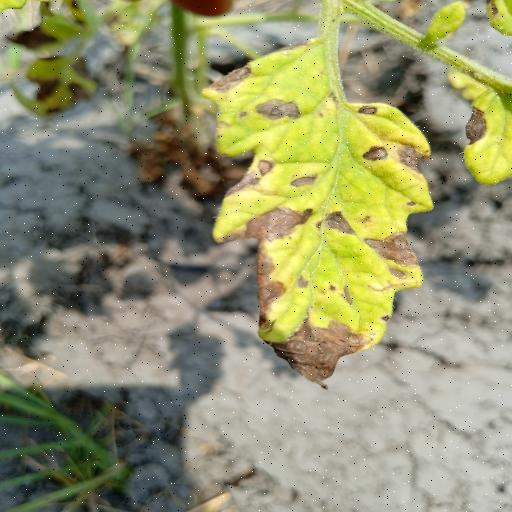Tomato_Brown_Spots: (193, 32, 440, 385)
